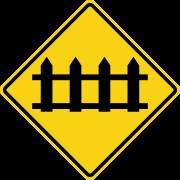Barrier Ahead: (9, 10, 174, 169)
